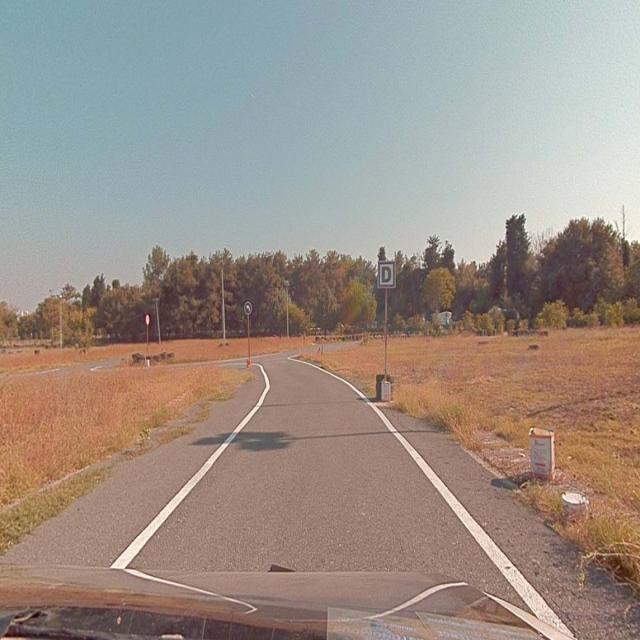durak: (378, 262, 395, 288)
sol: (244, 302, 252, 314)
